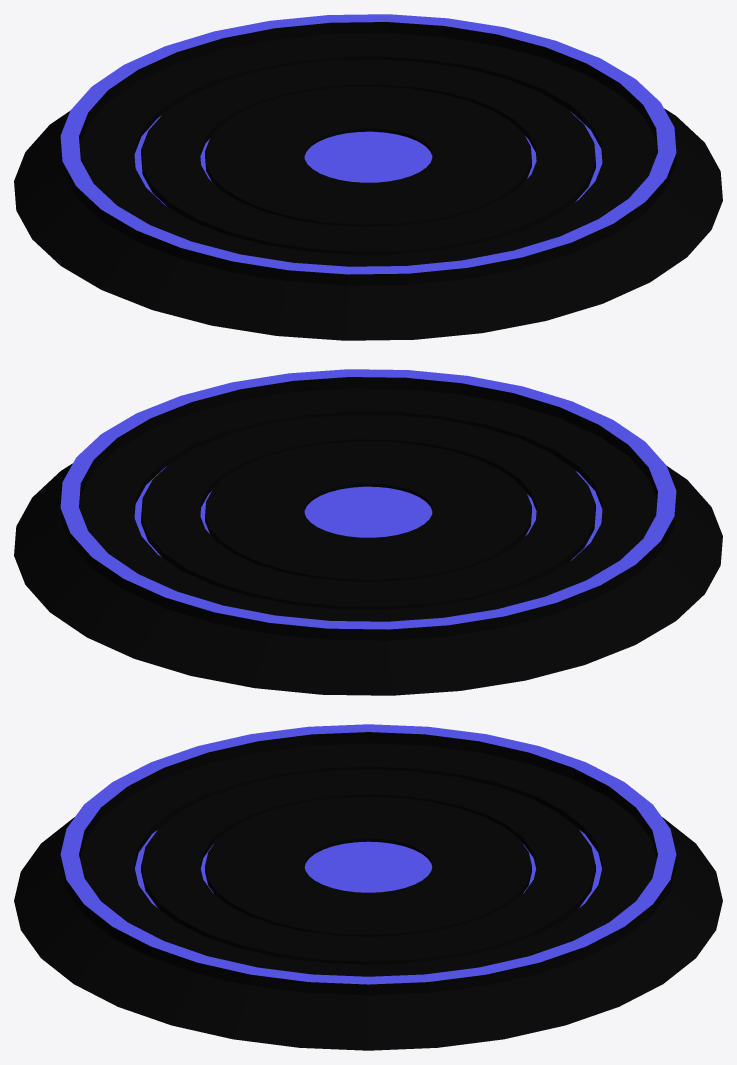
File: tableb.glb
The picture shows the model from 3 angles, top to bottom: view 1: azimuth 30°, elevation 25°; view 2: azimuth 150°, elevation 25°; view 3: azimuth 270°, elevation 25°; orthographic projection.
Visible parts, largest first — view 1: Circle; view 2: Circle; view 3: Circle.
Part boxes in pixels (x1,y1,x2,y2): Circle: (14,14,722,340); Circle: (14,369,722,695); Circle: (14,724,722,1050).
Bounding box in the file's own units: 2 × 0.1448 × 2.
Materials: 1 (1 with a texture image).
